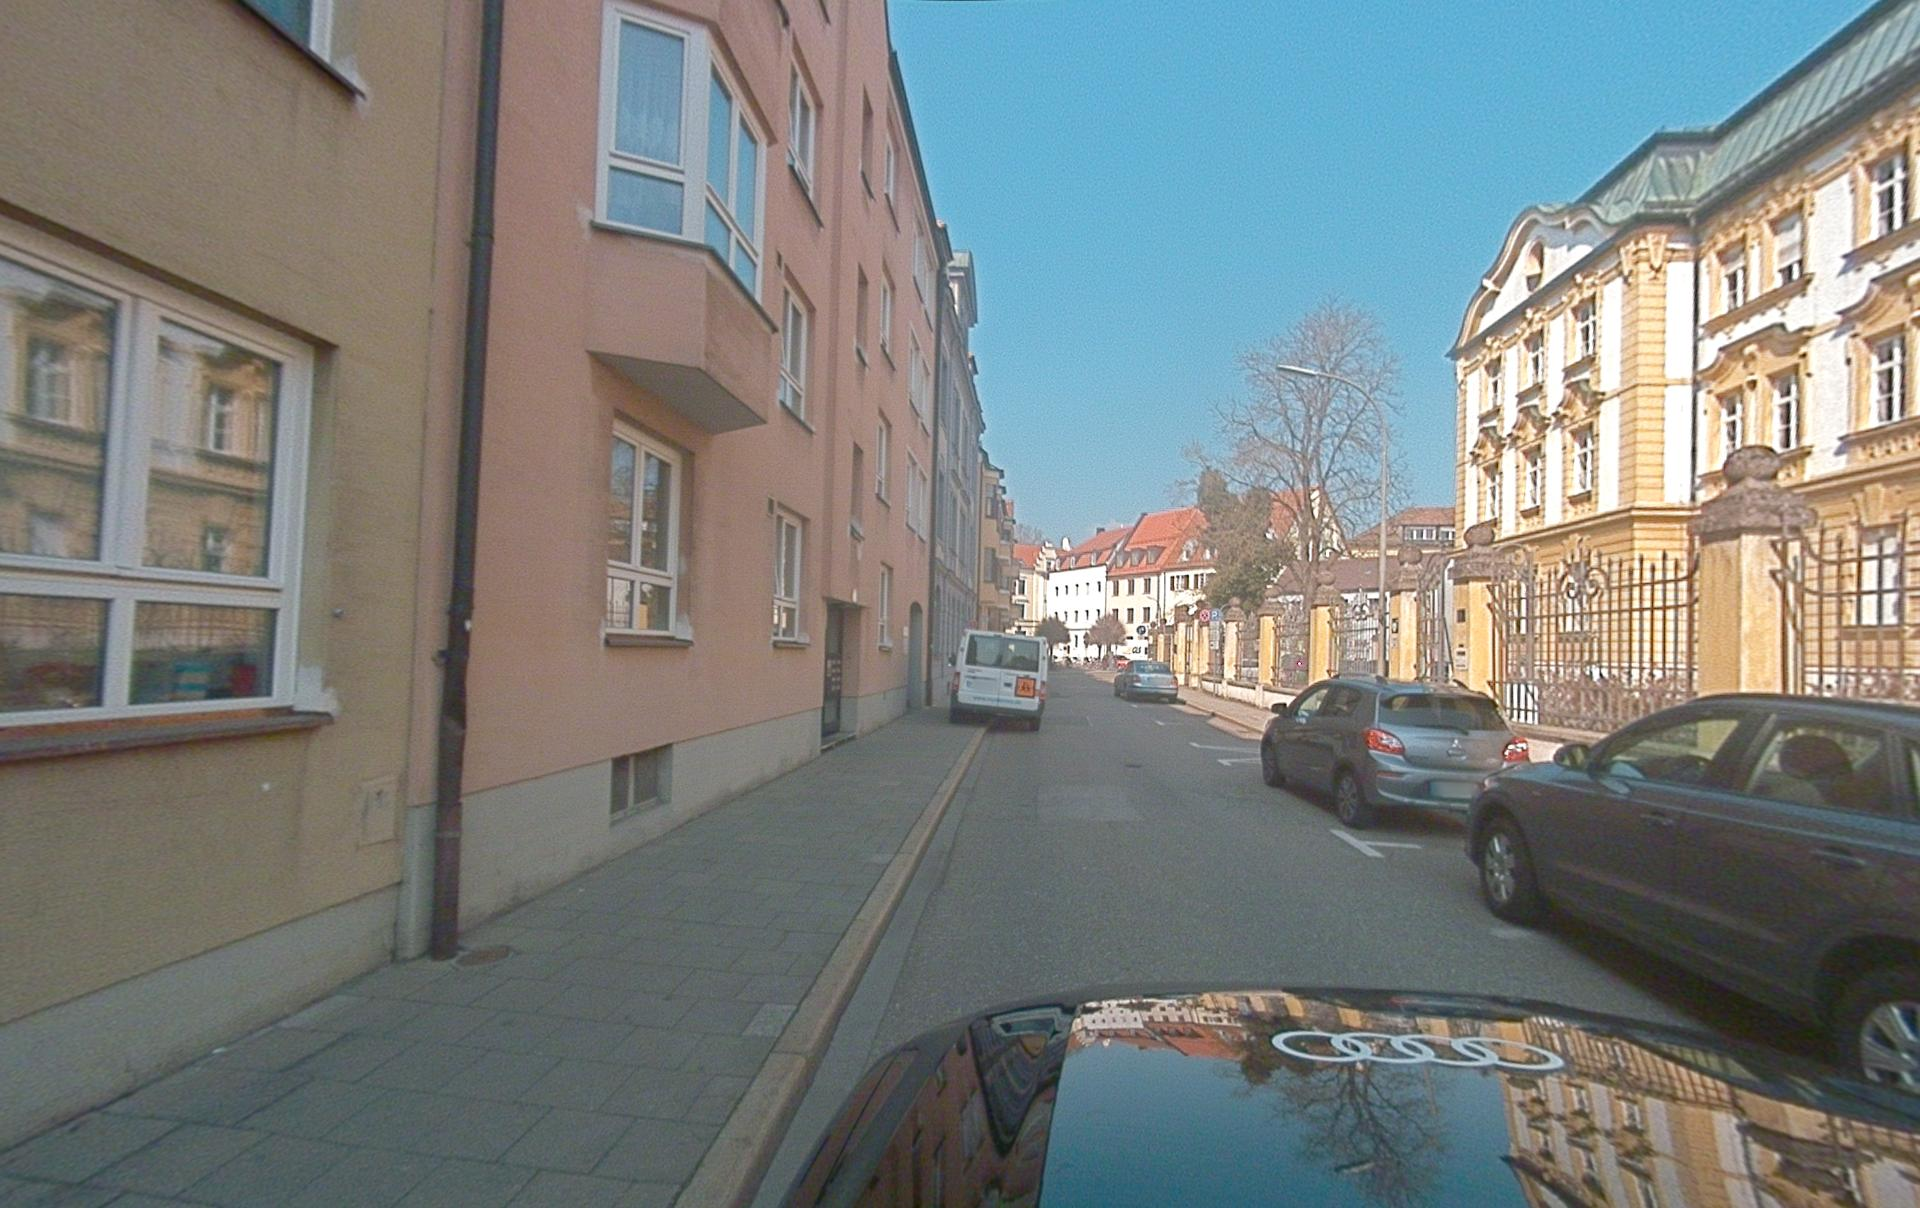car: (776, 985, 1920, 1208), (1465, 690, 1920, 1092), (1261, 675, 1530, 828), (1114, 658, 1178, 703)
